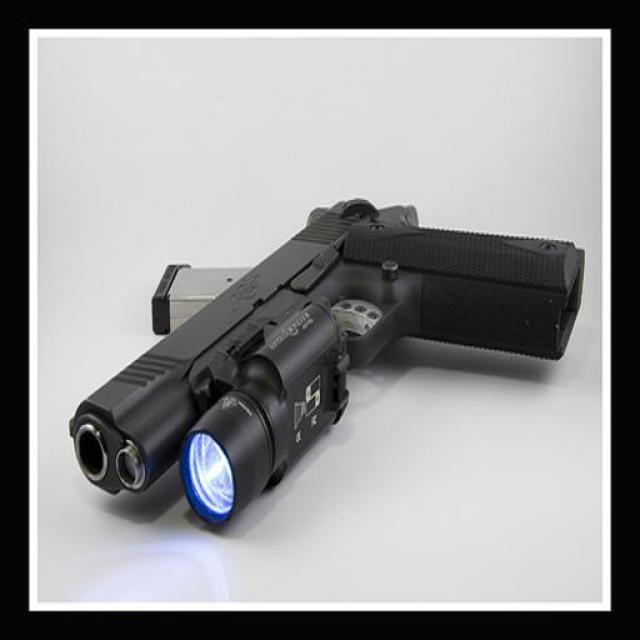pistol: (65, 195, 587, 531)
